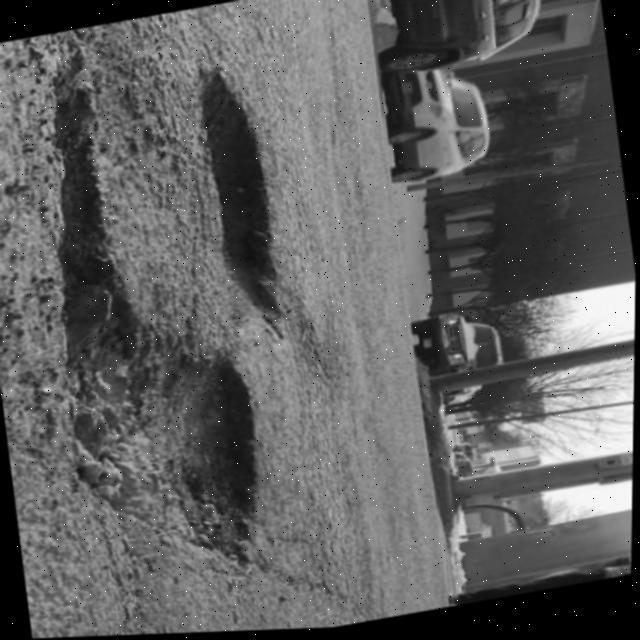pothole: (24, 85, 162, 479), (182, 56, 310, 338), (141, 347, 288, 575)
